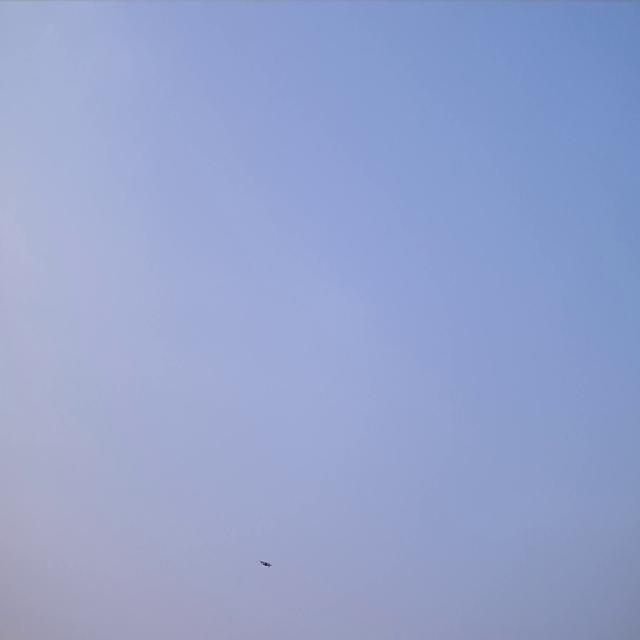UAV: (258, 560, 272, 568)
